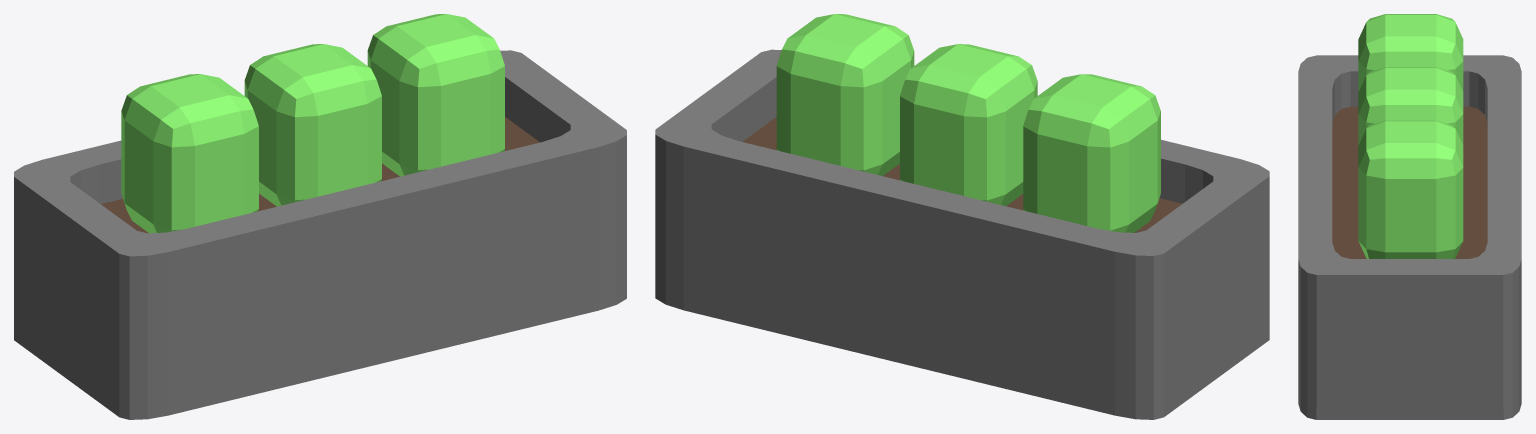
The model's file is Plants_01.fbx.
3 renders of one model, left to right at view 1: azimuth 30°, elevation 25°; view 2: azimuth 150°, elevation 25°; view 3: azimuth 270°, elevation 25°, orthographic. The views are drawn at different scales.
Parts seen in each view (by area): view 1: Plants; view 2: Plants; view 3: Plants.
Boxes of the visible parts, x1=… form: Plants: x1=14, y1=14, x2=626, y2=419; Plants: x1=655, y1=14, x2=1269, y2=419; Plants: x1=1298, y1=14, x2=1521, y2=419.
Bounding box in the file's own units: 465 × 225 × 200.
